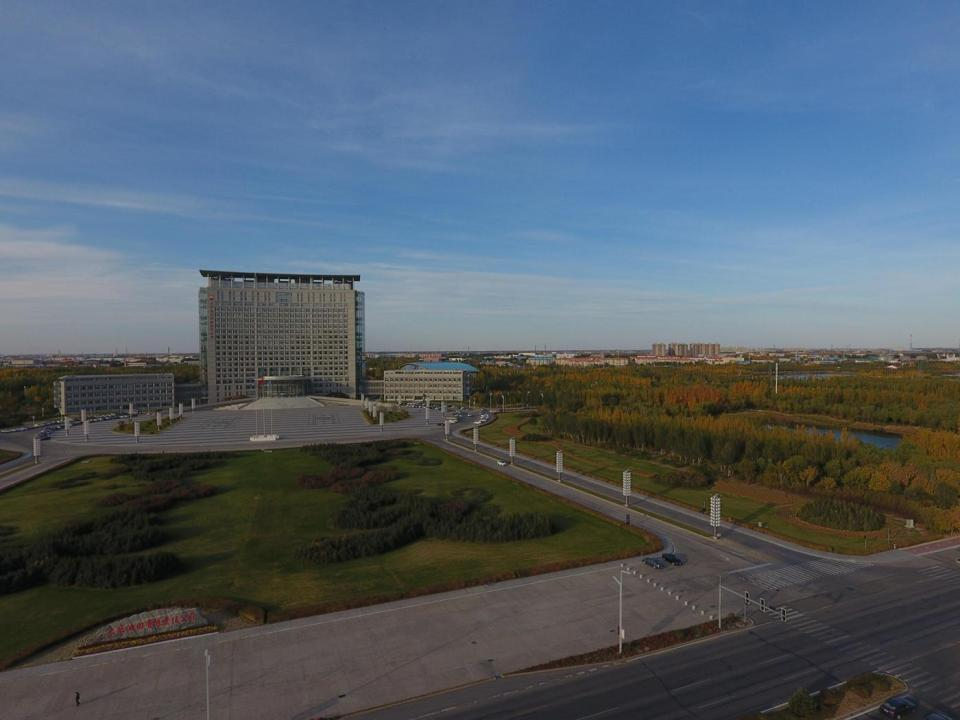bus: (445, 416, 458, 422)
car: (878, 695, 918, 720), (661, 551, 684, 567), (641, 556, 665, 569), (37, 434, 51, 442), (496, 458, 508, 467), (14, 426, 24, 433), (1, 428, 11, 434), (24, 424, 34, 430), (436, 421, 445, 427), (20, 425, 29, 431), (8, 427, 16, 433), (30, 424, 38, 430), (42, 422, 51, 427), (446, 420, 456, 424), (34, 423, 42, 428), (38, 422, 46, 427), (473, 420, 482, 424), (496, 406, 504, 410), (522, 405, 529, 409), (478, 419, 487, 422), (467, 412, 472, 417), (490, 410, 497, 413)
